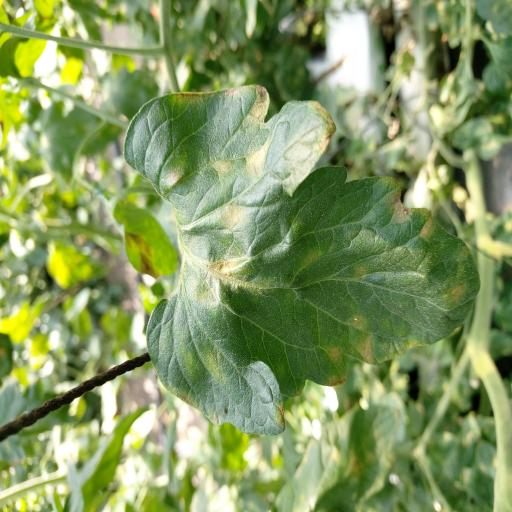Leaf Mold: (123, 84, 482, 435)
